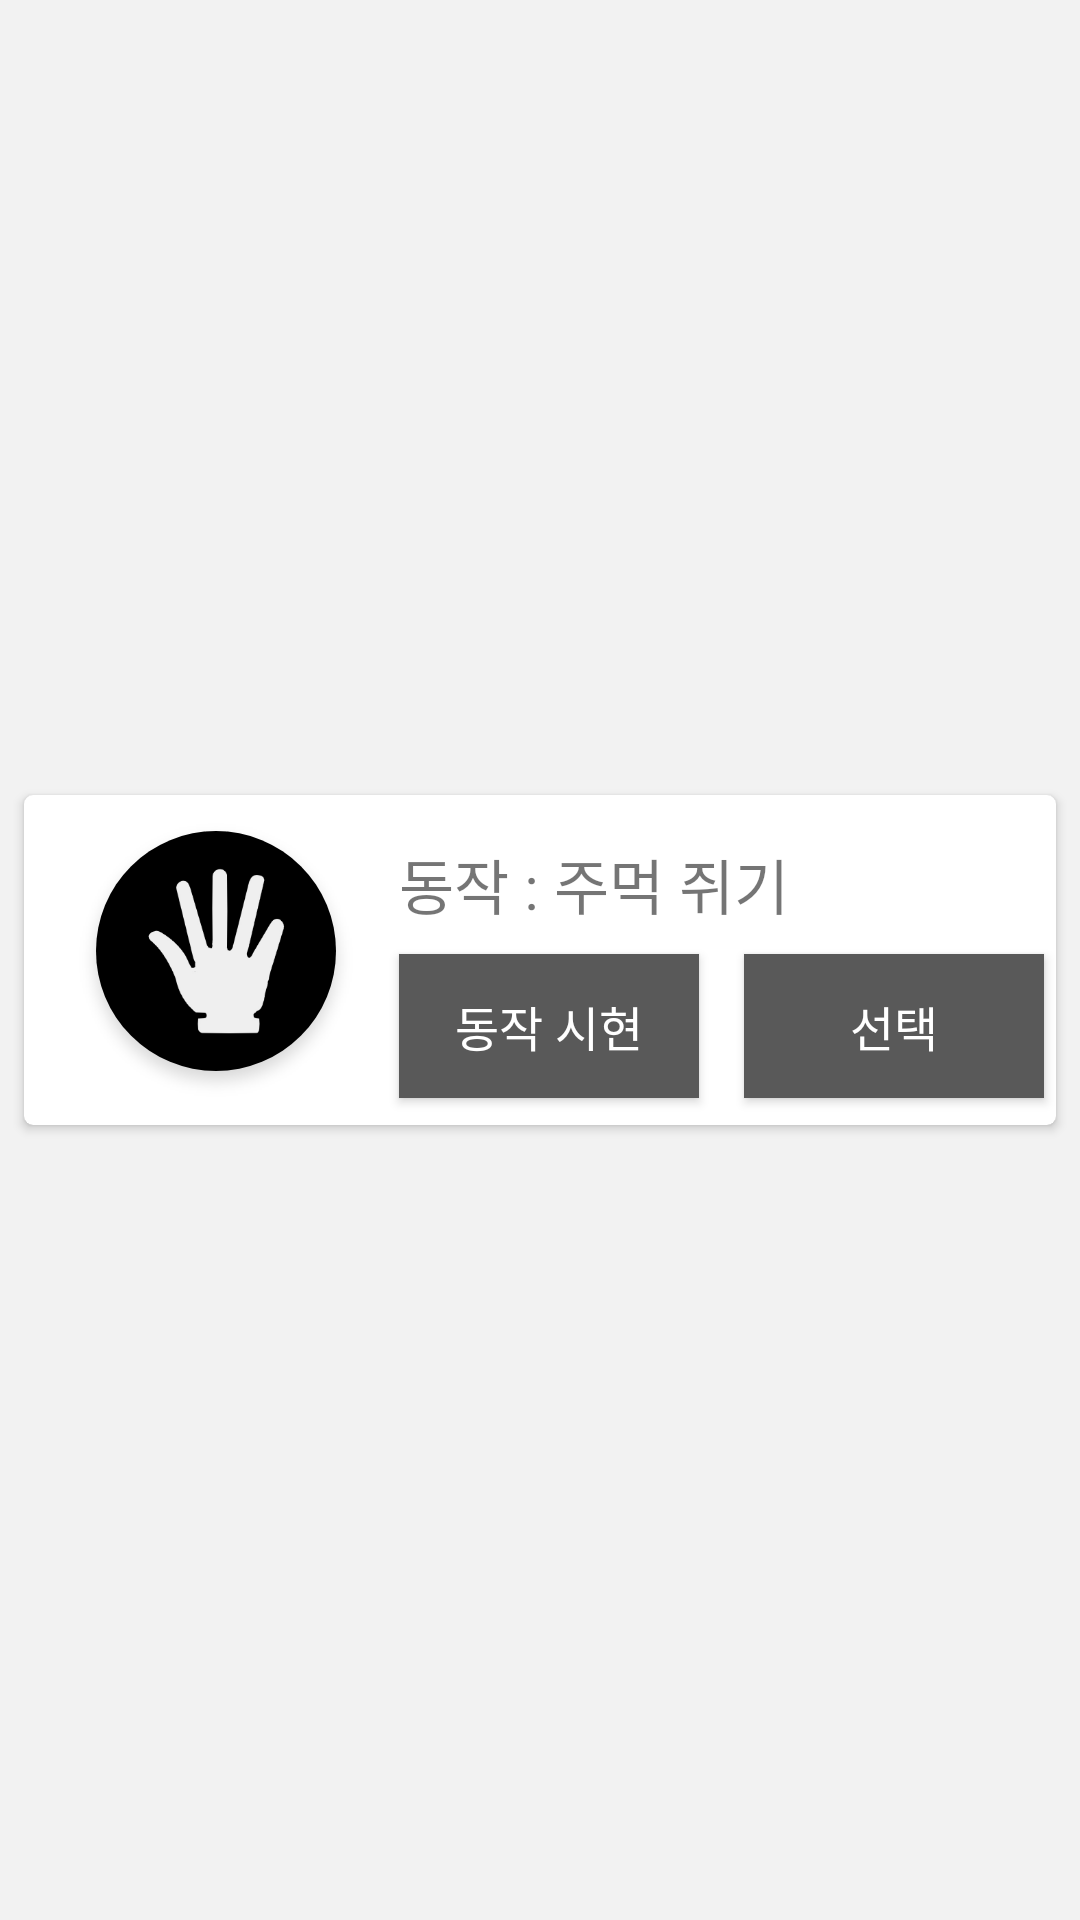

Icon bounding boxes for this 1080px×1920px phone screenshot, format (x1, y1, x2, y2):
hand open: (96, 831, 336, 1077)
